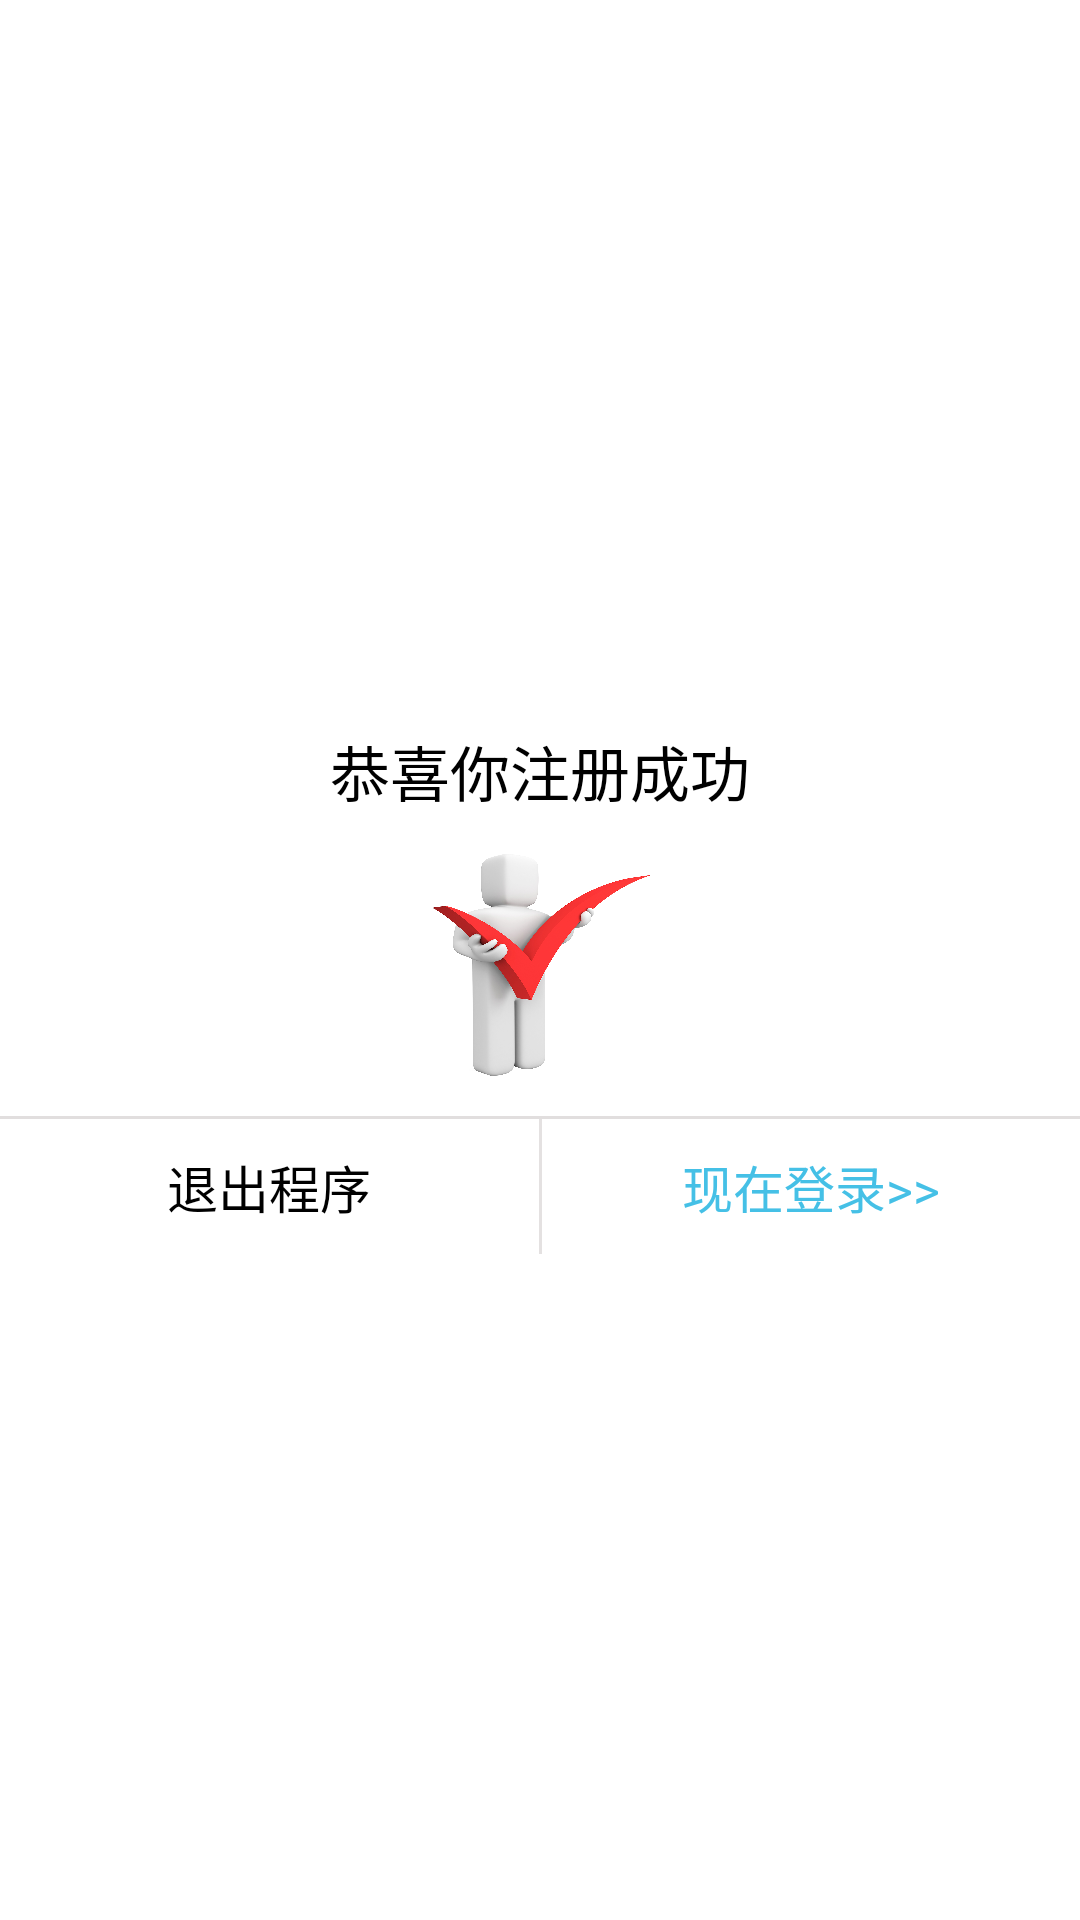

Icon bounding boxes for this 1080 × 1920 phone screenshot, format (x1, y1, x2, y2):
right: (433, 856, 650, 1076)
